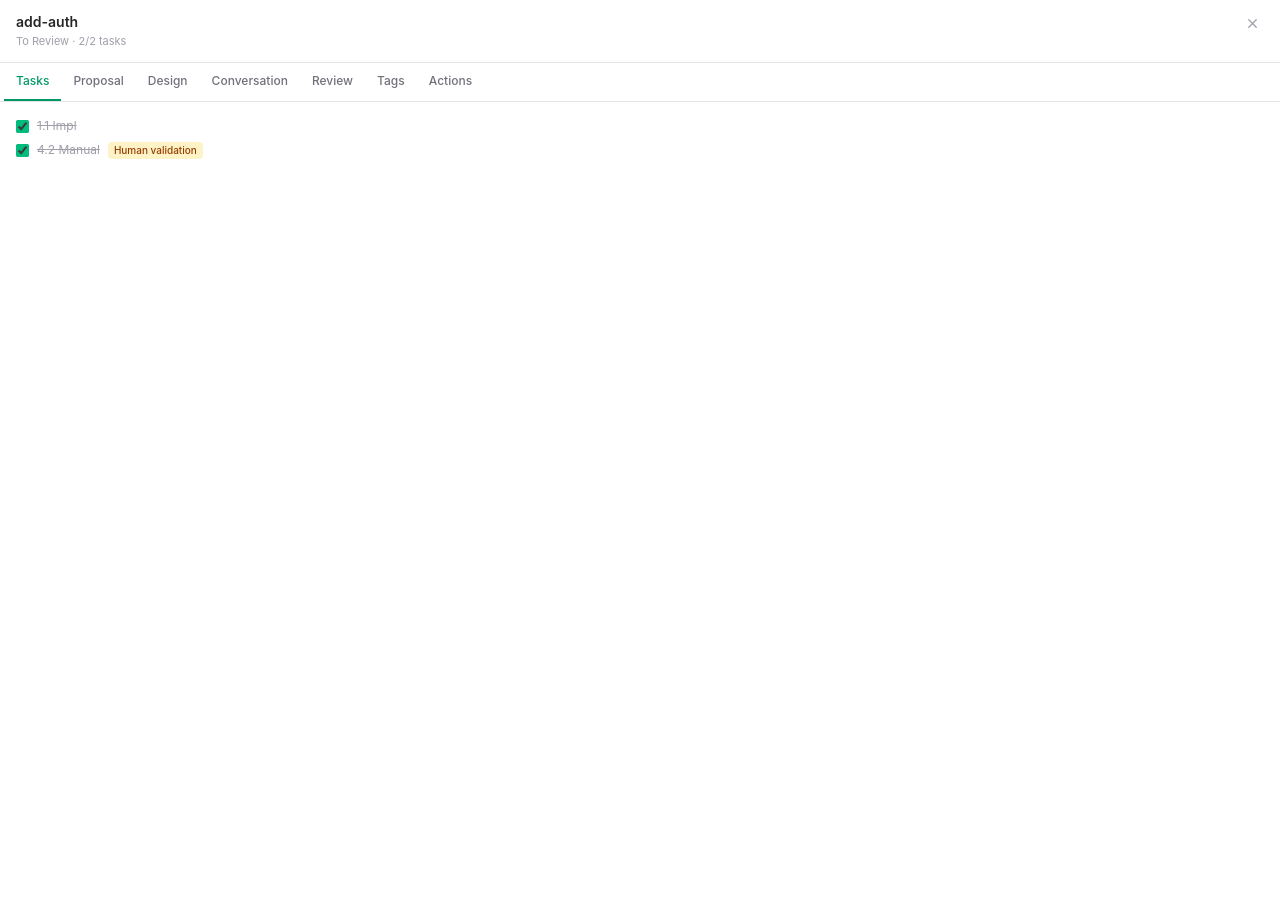
Test: DetailPanel guided conflict resolution › leaves the reopen box unchecked for an ordinary correction
Click the button "Actions" at point(450, 82), box [417,63,484,101]
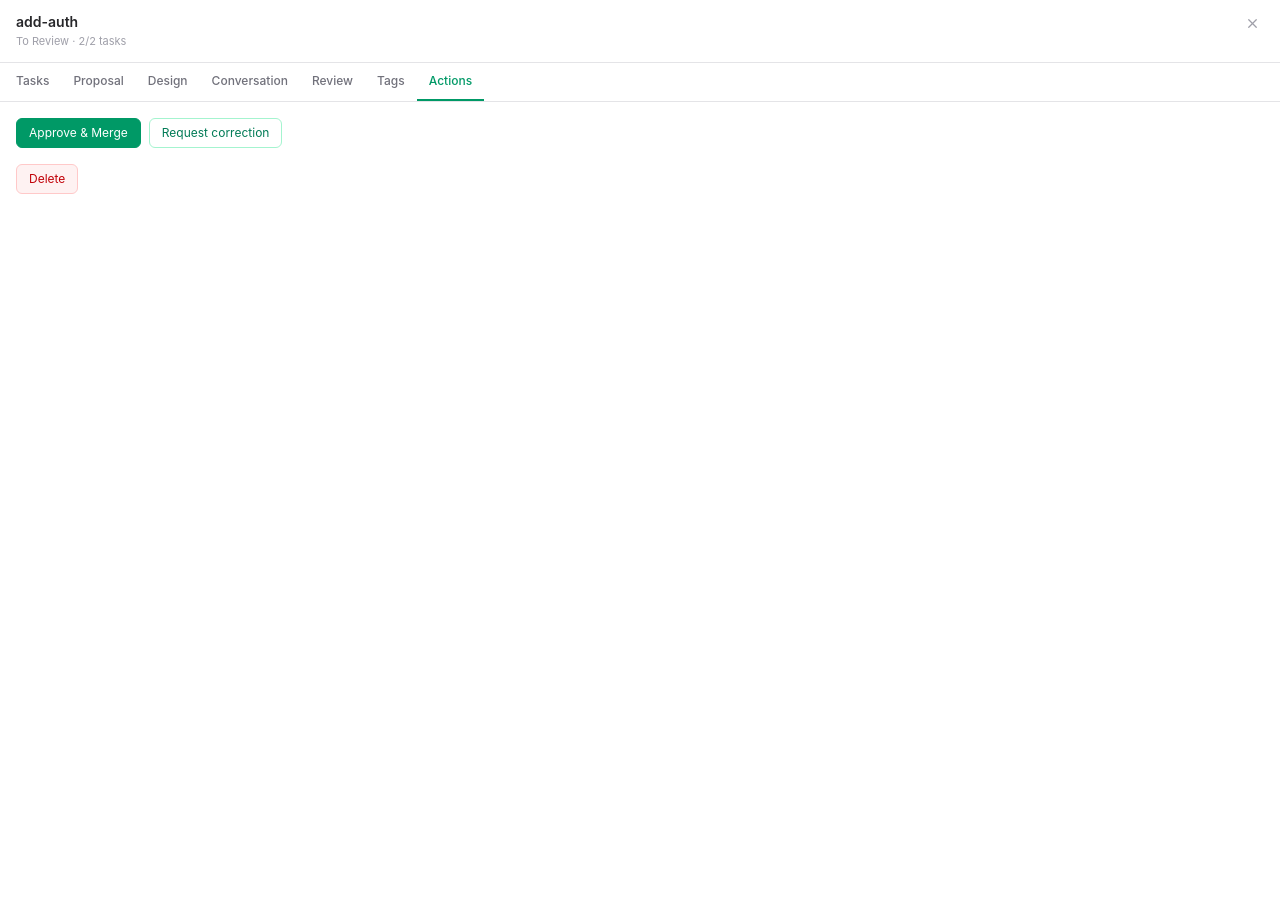
Click the button "Request correction" at point(216, 133), box [149,118,282,148]
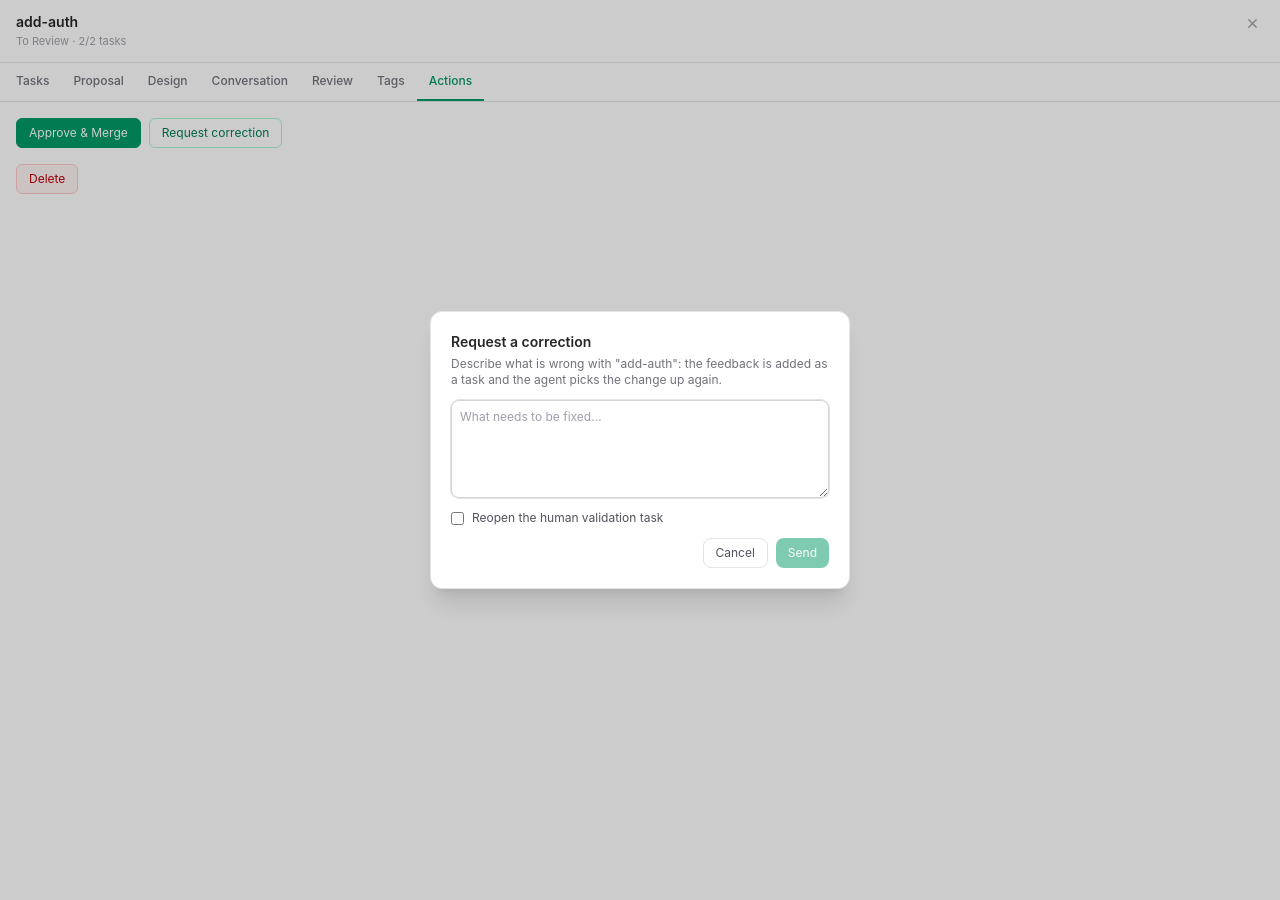
Now the text box is empty, box [451,400,829,498]
Now the checkbox is not checked, box [451,512,464,524]
